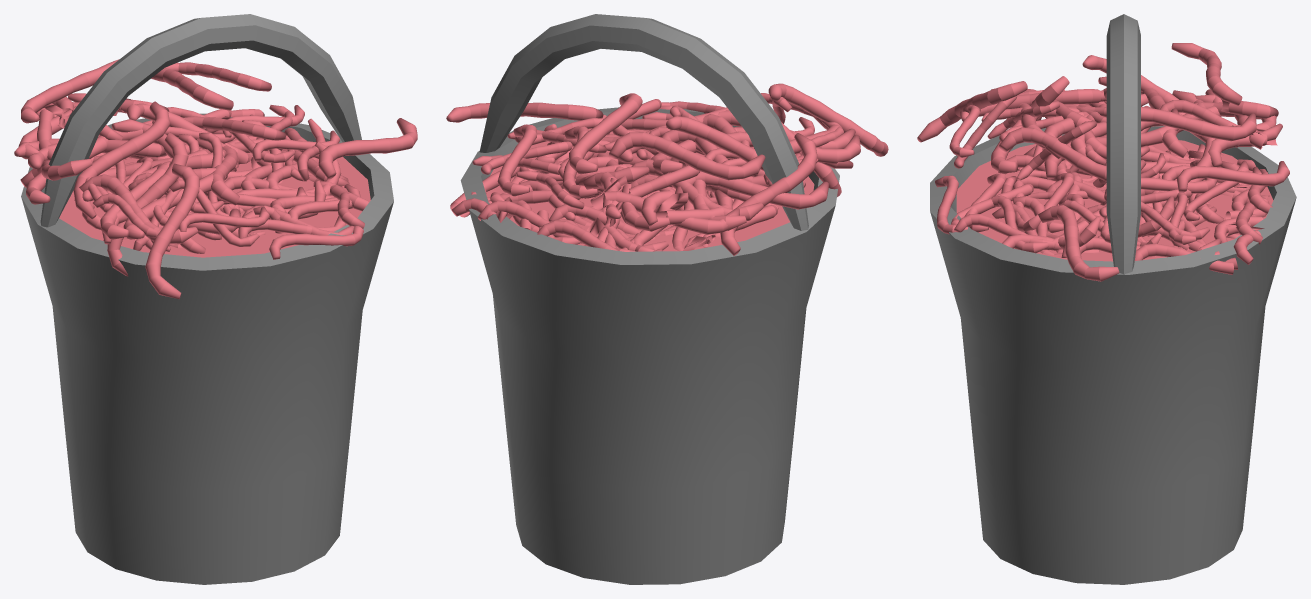
Rendered from bucket.fbx.
The picture shows the model from 3 angles, left to right: view 1: azimuth 30°, elevation 25°; view 2: azimuth 150°, elevation 25°; view 3: azimuth 270°, elevation 25°; orthographic projection. The views are drawn at different scales.
Visible parts, largest first — view 1: Bucket, Cylinder.001; view 2: Bucket, Cylinder.001; view 3: Bucket, Cylinder.001.
Boxes of the visible parts, x1=… form: Bucket: x1=21, y1=14, x2=393, y2=584; Cylinder.001: x1=14, y1=59, x2=417, y2=299; Bucket: x1=460, y1=14, x2=839, y2=584; Cylinder.001: x1=446, y1=83, x2=888, y2=255; Bucket: x1=930, y1=14, x2=1296, y2=584; Cylinder.001: x1=917, y1=43, x2=1289, y2=281.
Size of the model in its own units: 196 by 252 by 173.
